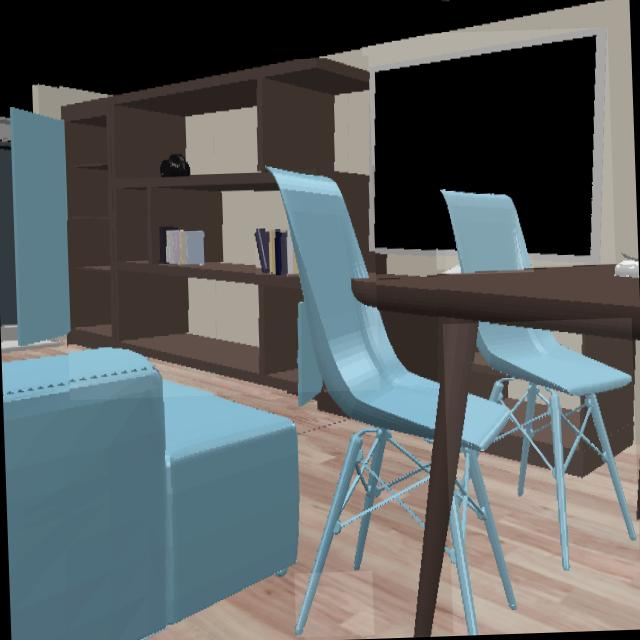book: (159, 229, 203, 266), (272, 231, 287, 276), (254, 230, 269, 274)
bookshelf: (62, 58, 372, 391)
chair: (270, 170, 440, 571), (449, 322, 638, 635), (296, 435, 367, 637), (443, 190, 533, 274)
monitor: (369, 28, 607, 263)
sofa: (1, 353, 299, 640)
table: (352, 265, 640, 636)
